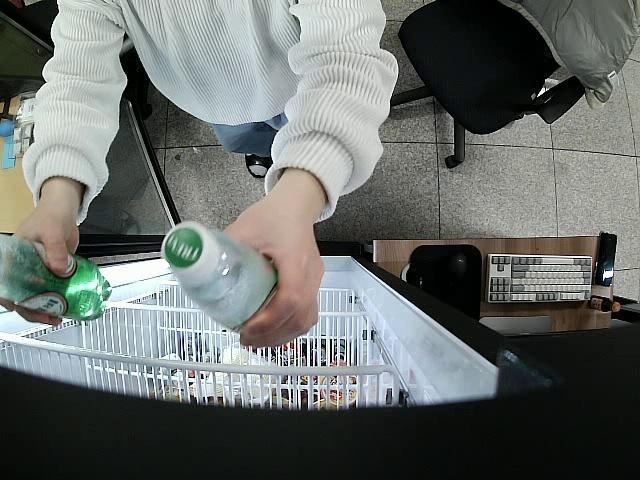18_trevi: (160, 220, 277, 336), (0, 231, 113, 321)
